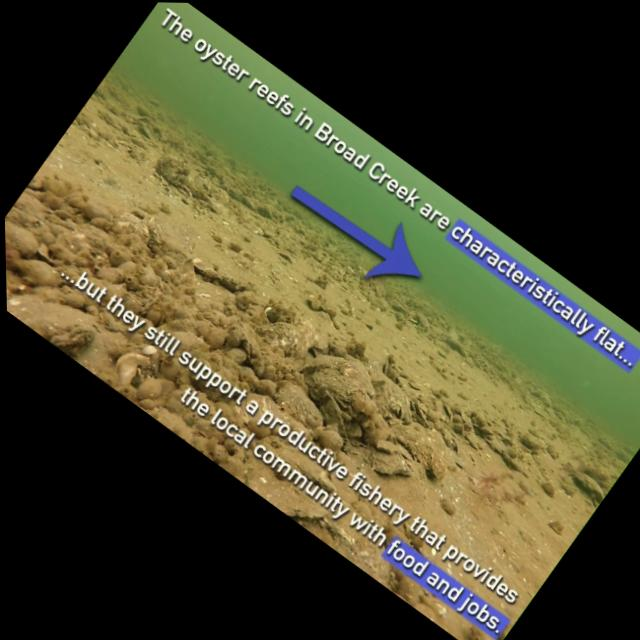Oyster-Closed: (519, 378, 559, 415)
Oyster-Indeterminate: (237, 447, 343, 540), (379, 400, 474, 485), (25, 294, 114, 374), (302, 390, 377, 459), (262, 375, 335, 443), (243, 306, 310, 370), (354, 364, 420, 427), (136, 208, 201, 270), (182, 267, 242, 324), (9, 243, 71, 297), (275, 307, 331, 366), (106, 341, 161, 396), (360, 439, 415, 489), (104, 201, 156, 250), (561, 464, 610, 509), (148, 149, 195, 193), (207, 260, 254, 303), (5, 214, 44, 261), (403, 590, 447, 628), (180, 247, 221, 286), (511, 424, 552, 462), (389, 569, 427, 608), (578, 453, 617, 490), (5, 199, 44, 235), (436, 326, 475, 362), (430, 423, 468, 458), (32, 239, 70, 272), (431, 492, 466, 526), (131, 118, 168, 150), (476, 430, 511, 463), (129, 98, 162, 128), (186, 166, 218, 196), (417, 587, 449, 616), (361, 288, 392, 317), (352, 263, 382, 292), (456, 423, 486, 451), (408, 306, 437, 334), (434, 398, 463, 426), (497, 435, 526, 462), (250, 201, 278, 226), (238, 218, 265, 243), (465, 408, 492, 433), (535, 477, 561, 502), (454, 409, 480, 433), (266, 232, 292, 255), (254, 218, 279, 241), (544, 517, 569, 540), (25, 172, 47, 197), (386, 297, 412, 318), (446, 411, 469, 433), (224, 183, 245, 203), (183, 179, 205, 198), (237, 194, 258, 213), (223, 154, 242, 173), (144, 96, 164, 114), (250, 223, 266, 239)
Oyster-Open: (293, 339, 380, 420), (192, 189, 224, 216), (178, 183, 195, 199)
